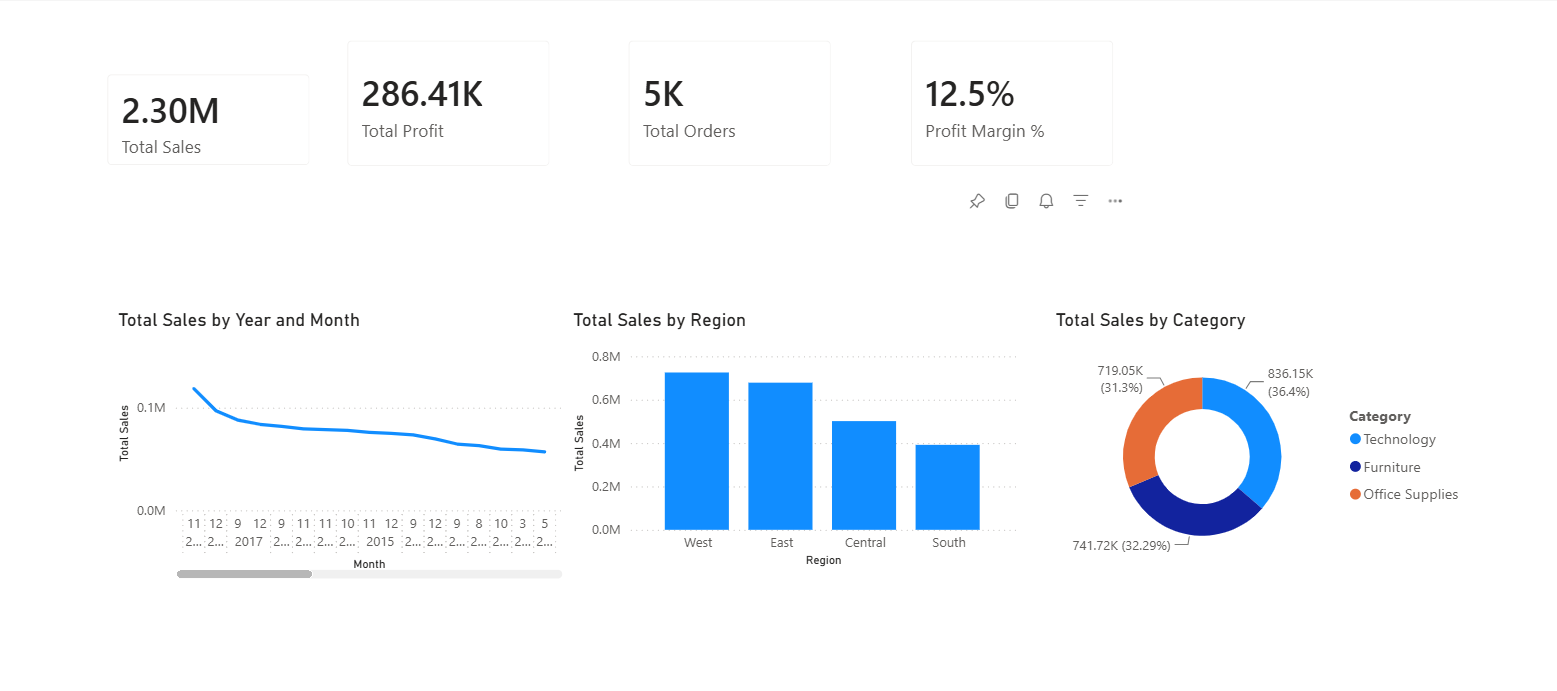

Layout of this report page (visuals, bound fields, positions):
{"tool":"powerbi","page":{"name":"Executive Summary","canvas":[1280,720],"ordinal":0},"visuals":[{"type":"cardVisual","fields":{"Data":["_Measures.Total Sales"]},"box":[0,51.4,221.3,118.6],"z":0},{"type":"cardVisual","fields":{"Data":["_Measures.Total Profit"]},"box":[221.3,19.6,221,150],"z":1000},{"type":"cardVisual","fields":{"Data":["_Measures.Total Orders"]},"box":[481.5,20,221,150],"z":2000},{"type":"cardVisual","fields":{"Data":["_Measures.Profit Margin %"]},"box":[742.5,20,221,150],"z":3000},{"type":"lineChart","fields":{"Category":["Dim_Date.Year","Dim_Date.Month"],"Y":["_Measures.Total Sales"]},"box":[22,283.7,420.7,254.3],"z":4000},{"type":"clusteredColumnChart","fields":{"Category":["Dim_Location.Region"],"Y":["_Measures.Total Sales"]},"box":[442.7,283.7,419.4,243.3],"z":5000},{"type":"donutChart","fields":{"Category":["Dim_Product.Category"],"Y":["_Measures.Total Sales"]},"box":[889,283.7,391.3,243.3],"z":6000}]}

Visuals, with their boxes on the page's 1280x720 design canvas (x1, y1, x2, y2). These are canvas units, not pixel positions in the 1557x691 screenshot, which may show the page scaled, cropped or inside an application window:
cardVisual - _Measures.Total Sales: [0, 51, 221, 170]
cardVisual - _Measures.Total Profit: [221, 20, 442, 170]
cardVisual - _Measures.Total Orders: [482, 20, 702, 170]
cardVisual - _Measures.Profit Margin %: [742, 20, 964, 170]
lineChart - Dim_Date.Year x Dim_Date.Month: [22, 284, 443, 538]
clusteredColumnChart - Dim_Location.Region x _Measures.Total Sales: [443, 284, 862, 527]
donutChart - Dim_Product.Category x _Measures.Total Sales: [889, 284, 1280, 527]
